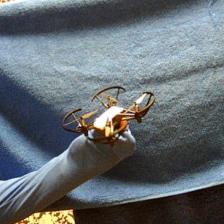drone: (62, 83, 160, 149)
